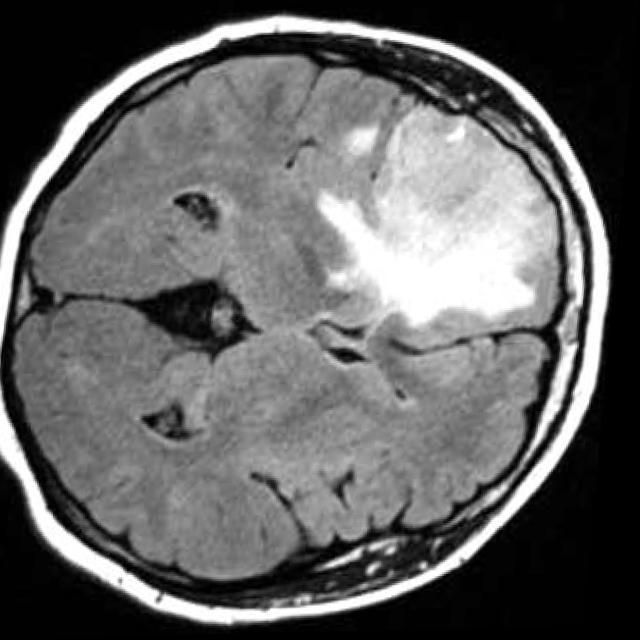Tumor: (322, 100, 566, 328)
